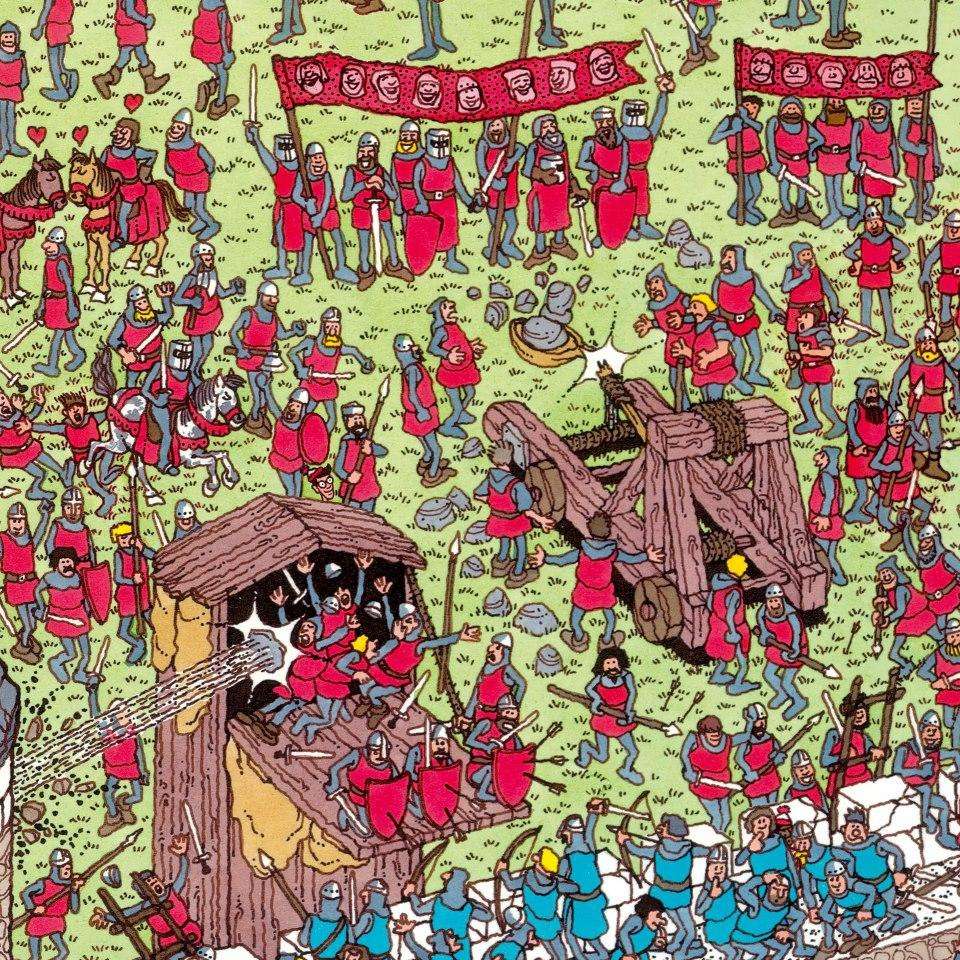waldo: (301, 465, 336, 502)
